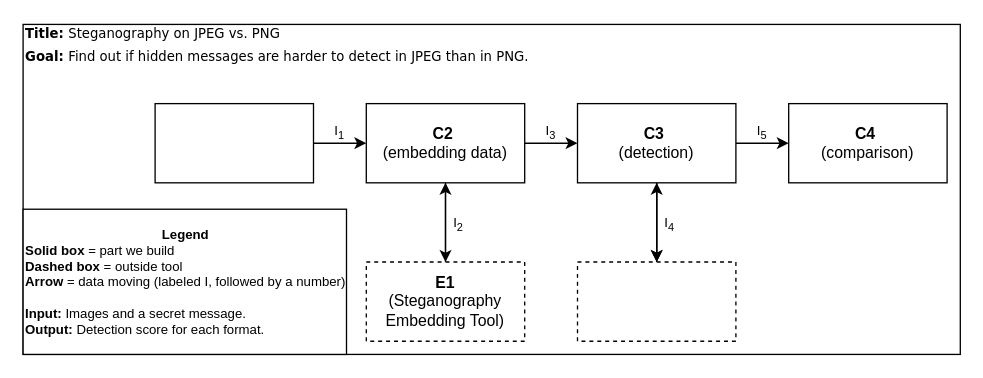
Some shapes in this 983 by 378 pixel diagram are drawn without their labels. Each missing label, with the centre of its shape:
C1 (images preparation): (234,142)
E2 (Steganography Detection Tool): (656,301)
